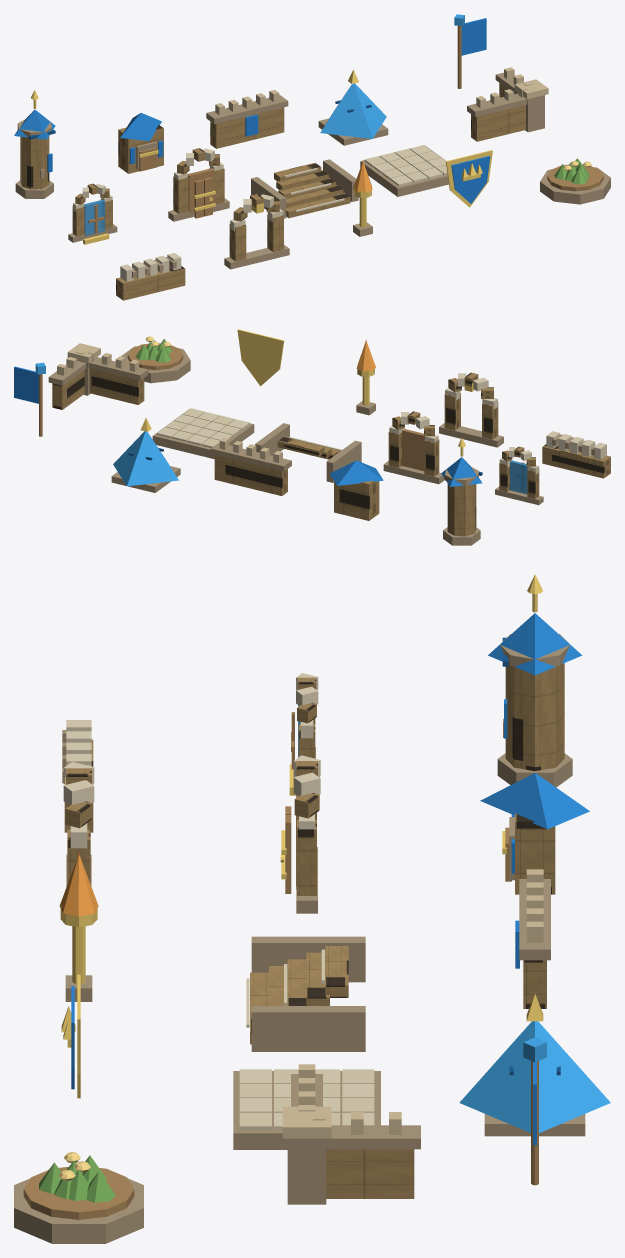
File: city-module-kit-lod0.glb
The picture shows the model from 3 angles, top to bottom: view 1: azimuth 30°, elevation 25°; view 2: azimuth 150°, elevation 25°; view 3: azimuth 270°, elevation 25°; orthographic projection. The views are drawn at different scales.
Visible parts, largest first — view 1: module_roof_tile_blue_pyramid, module_wall_facade, module_tower_stone_body, module_corner_wall_a_facade, module_merlon_base_wall, module_flowerbed_stone_ring, module_shield_blue_plate, module_platform_base, module_gate_stone_arch, module_wall_top_walkway, module_banner_cloth, module_flowerbed_soil (+21 smaller); view 2: module_roof_tile_blue_pyramid, module_wall_facade, module_shield_gold_rim, module_gate_stone_arch, module_tower_stone_body, module_corner_wall_a_facade, module_merlon_base_wall, module_platform_base, module_gate_blue_roof, module_door_frame_inner_panel, module_wall_top_walkway, module_corner_wall_b_facade (+22 smaller); view 3: module_roof_tile_blue_pyramid, module_tower_stone_body, module_stairs_right_cheek, module_corner_wall_b_facade, module_flowerbed_stone_ring, module_gate_blue_roof, module_stairs_left_cheek, module_flowerbed_soil, module_corner_square_pier, module_tower_blue_roof, module_gate_stone_arch, module_platform_base (+11 smaller).
Boxes of the visible parts, left/top/right/bottom form: module_roof_tile_blue_pyramid: left=320, top=83, right=386, bottom=138; module_wall_facade: left=210, top=107, right=284, bottom=148; module_tower_stone_body: left=20, top=136, right=49, bottom=189; module_corner_wall_a_facade: left=471, top=105, right=525, bottom=141; module_merlon_base_wall: left=116, top=266, right=185, bottom=300; module_flowerbed_stone_ring: left=540, top=167, right=610, bottom=204; module_shield_blue_plate: left=451, top=156, right=490, bottom=203; module_platform_base: left=360, top=145, right=448, bottom=196; module_gate_stone_arch: left=118, top=125, right=163, bottom=173; module_wall_top_walkway: left=206, top=95, right=288, bottom=124; module_banner_cloth: left=461, top=18, right=486, bottom=55; module_flowerbed_soil: left=547, top=164, right=603, bottom=191; module_roof_tile_blue_pyramid: left=113, top=431, right=178, bottom=486; module_wall_facade: left=214, top=455, right=287, bottom=495; module_shield_gold_rim: left=237, top=329, right=284, bottom=385; module_gate_stone_arch: left=334, top=480, right=379, bottom=520; module_tower_stone_body: left=447, top=484, right=476, bottom=536; module_corner_wall_a_facade: left=89, top=368, right=144, bottom=404; module_merlon_base_wall: left=542, top=444, right=610, bottom=478; module_platform_base: left=152, top=409, right=254, bottom=459; module_gate_blue_roof: left=329, top=460, right=383, bottom=485; module_door_frame_inner_panel: left=402, top=429, right=424, bottom=470; module_wall_top_walkway: left=210, top=443, right=291, bottom=471; module_corner_wall_b_facade: left=52, top=370, right=84, bottom=409; module_roof_tile_blue_pyramid: left=459, top=1021, right=610, bottom=1132; module_tower_stone_body: left=505, top=663, right=564, bottom=771; module_stairs_right_cheek: left=251, top=1006, right=365, bottom=1051; module_corner_wall_b_facade: left=326, top=1149, right=414, bottom=1198; module_flowerbed_stone_ring: left=14, top=1178, right=143, bottom=1243; module_gate_blue_roof: left=480, top=773, right=589, bottom=829; module_stairs_left_cheek: left=251, top=936, right=365, bottom=982; module_flowerbed_soil: left=23, top=1166, right=134, bottom=1219; module_corner_square_pier: left=287, top=1138, right=326, bottom=1204; module_tower_blue_roof: left=488, top=613, right=582, bottom=675; module_gate_stone_arch: left=515, top=813, right=555, bottom=894; module_platform_base: left=233, top=1071, right=380, bottom=1149.
Bounding box in the file's own units: 3.28 × 0.785 × 1.78.
60 materials, 9 textured.
